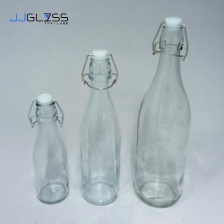bottle: (131, 14, 201, 211), (77, 47, 125, 208), (25, 89, 75, 205)
